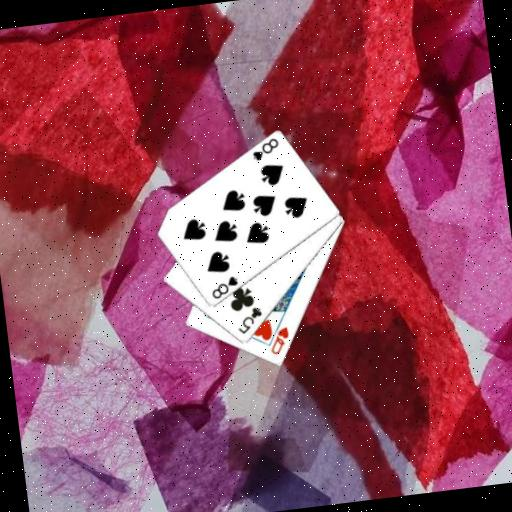5C: (232, 304, 266, 337)
8S: (247, 135, 282, 164), (207, 273, 241, 302)
QH: (266, 324, 294, 357)
